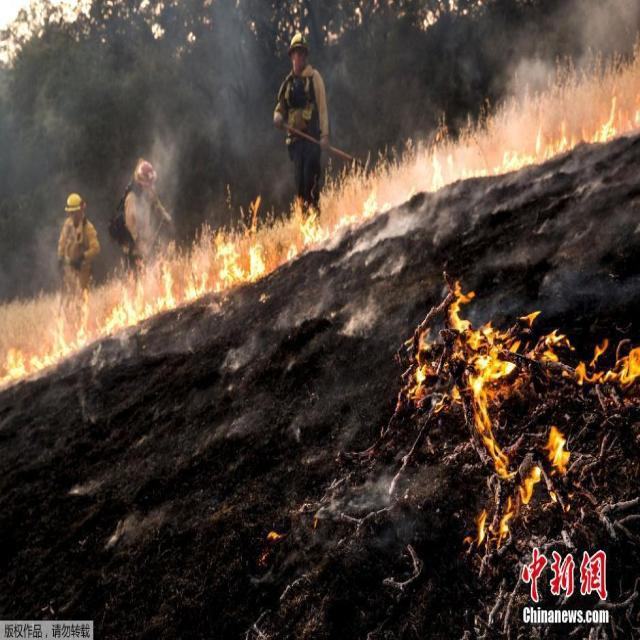fire: (1, 52, 636, 380), (394, 287, 638, 549)
other: (262, 25, 329, 179), (119, 153, 164, 255), (53, 183, 97, 284)
